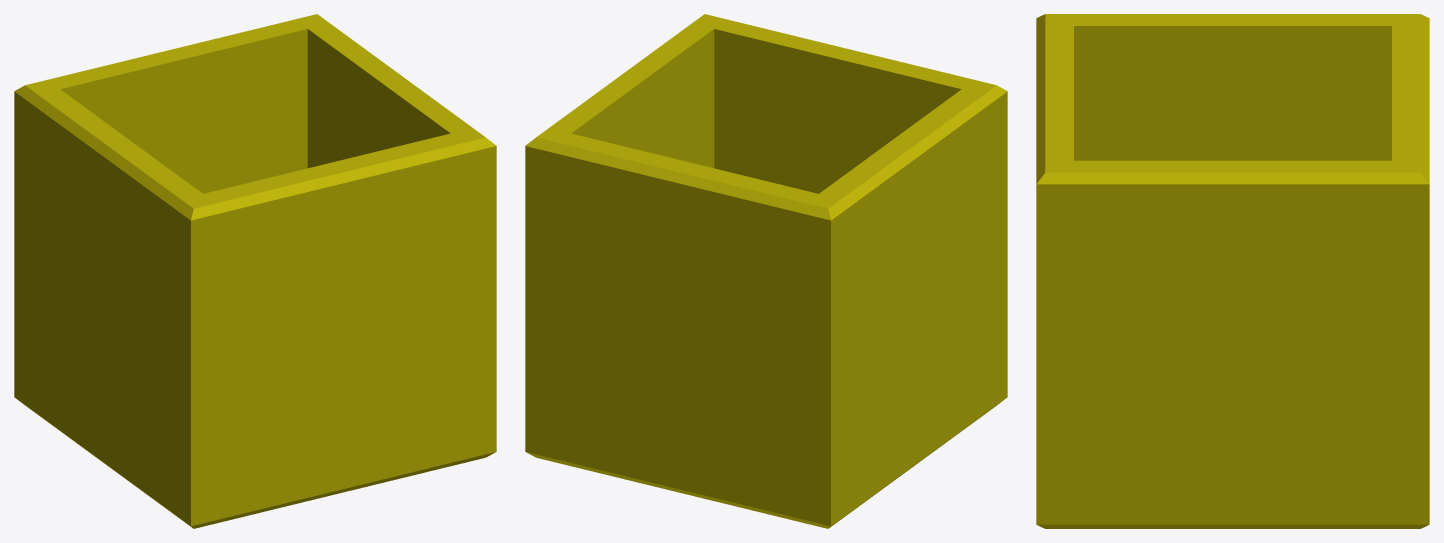
File: crate(1).fbx
3 renders of one model, left to right at view 1: azimuth 30°, elevation 25°; view 2: azimuth 150°, elevation 25°; view 3: azimuth 270°, elevation 25°, orthographic. The views are drawn at different scales.
Parts seen in each view (by area): view 1: pCube1; view 2: pCube1; view 3: pCube1.
Boxes of the visible parts, x1=… form: pCube1: x1=14, y1=14, x2=496, y2=528; pCube1: x1=525, y1=14, x2=1007, y2=528; pCube1: x1=1036, y1=14, x2=1429, y2=528.
Size of the model in its own units: 3.23 by 3.23 by 3.23.
